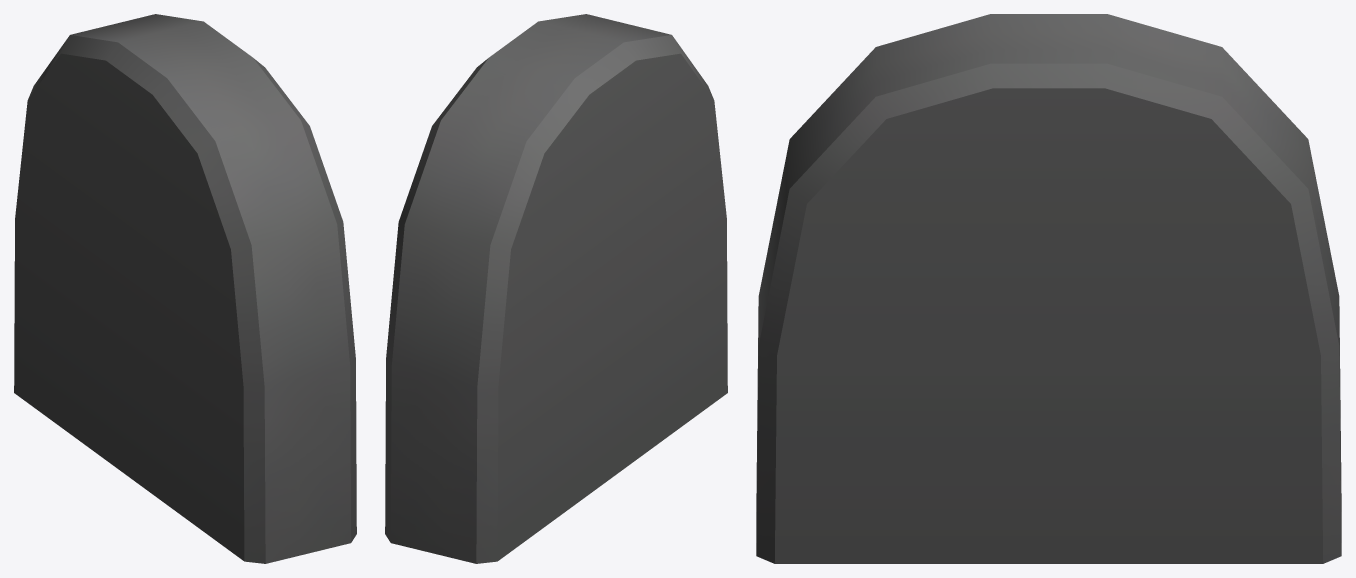
File: Tombstone_5.glb
3 views of the same model, side by side, from view 1: azimuth 30°, elevation 25°; view 2: azimuth 150°, elevation 25°; view 3: azimuth 270°, elevation 25° (orthographic). The views are drawn at different scales.
Parts seen in each view (by area): view 1: Tombstone_5; view 2: Tombstone_5; view 3: Tombstone_5.
Boxes of the visible parts, x1,y1,x2,y2 form: Tombstone_5: (14, 14, 356, 563); Tombstone_5: (385, 14, 727, 563); Tombstone_5: (756, 14, 1341, 563).
Size of the model in its own units: 0.1765 by 0.6205 by 0.6683.
1 material, 1 textured.
